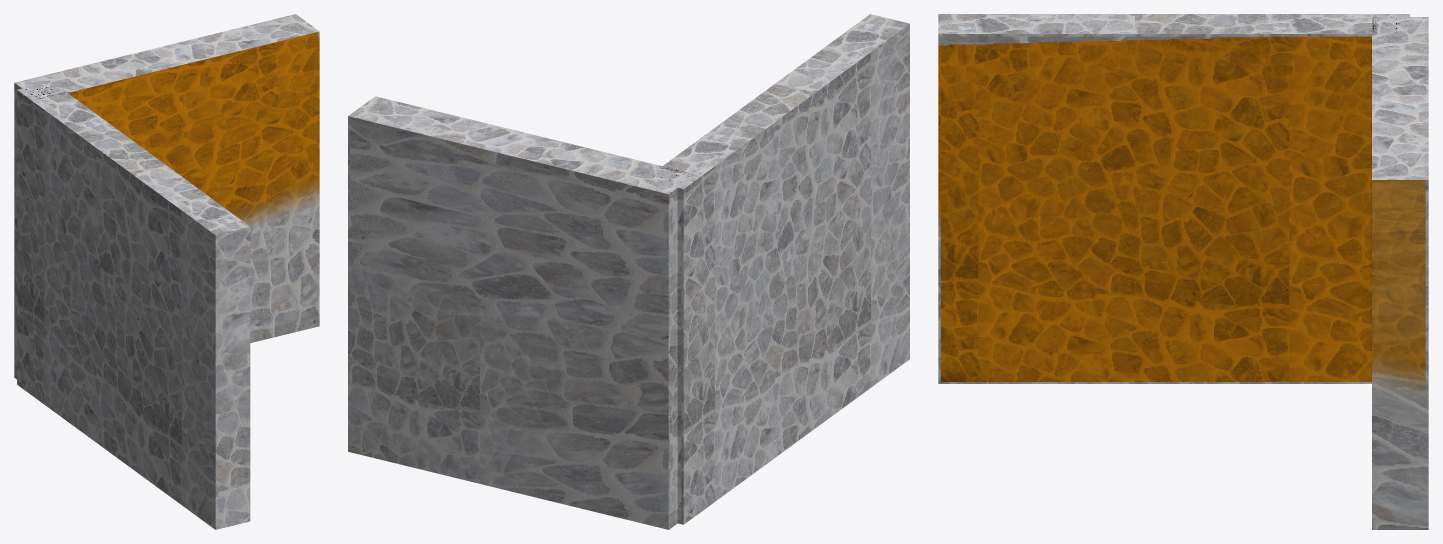
Rendered from house_side.glb.
3 views of the same model, side by side, from view 1: azimuth 30°, elevation 25°; view 2: azimuth 150°, elevation 25°; view 3: azimuth 270°, elevation 25° (orthographic). The views are drawn at different scales.
Parts seen in each view (by area): view 1: Cube.002; view 2: Cube.002; view 3: Cube.002.
Part boxes in pixels (<box>): Cube.002: <box>14,14,319,529</box>; Cube.002: <box>348,14,909,529</box>; Cube.002: <box>938,14,1428,529</box>.
Bounding box in the file's own units: 2.04 × 2 × 2.54.
1 material, 1 textured.
